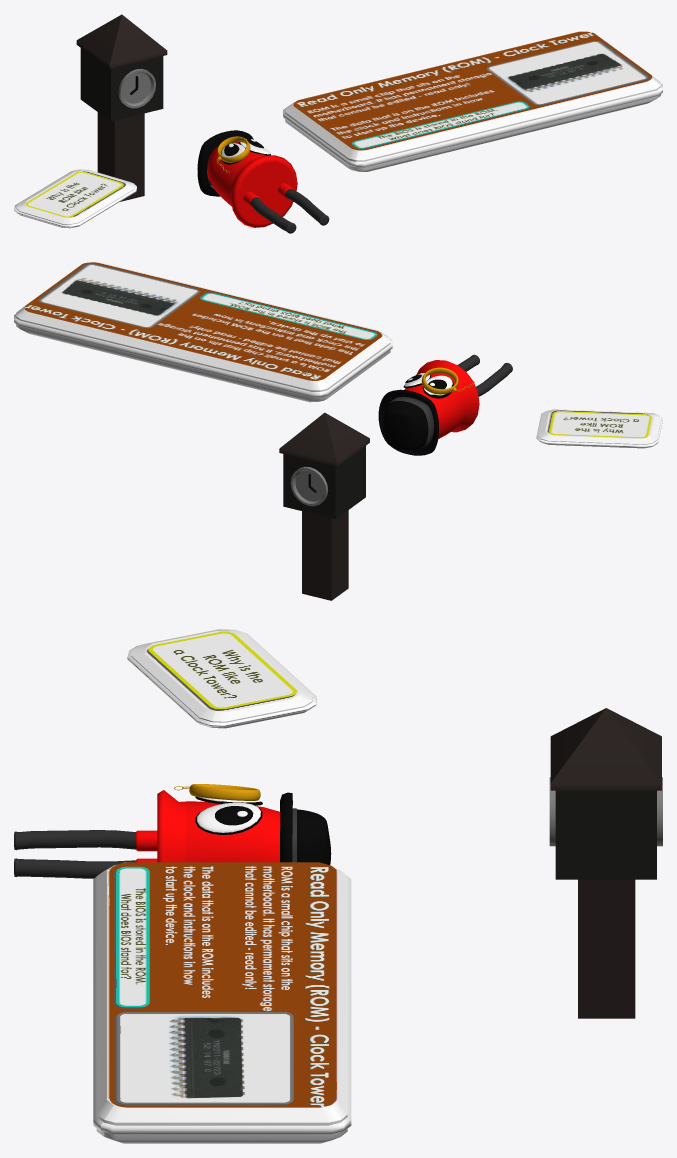
File: combined_rom.obj
3 views of the same model, one above another, from view 1: azimuth 30°, elevation 25°; view 2: azimuth 150°, elevation 25°; view 3: azimuth 270°, elevation 25° (orthographic). The views are drawn at different scales.
Visible parts, largest first — view 1: ROM1, mod_clocktower, char_5, ROM2; view 2: ROM1, mod_clocktower, char_5, ROM2; view 3: ROM1, mod_clocktower, char_5, ROM2.
Part boxes in pixels (left/top/right/bottom): ROM1: left=283, top=31, right=662, bottom=171; mod_clocktower: left=76, top=14, right=167, bottom=201; char_5: left=197, top=130, right=329, bottom=233; ROM2: left=14, top=169, right=136, bottom=228; ROM1: left=14, top=262, right=392, bottom=402; mod_clocktower: left=279, top=412, right=369, bottom=600; char_5: left=378, top=354, right=512, bottom=455; ROM2: left=536, top=409, right=662, bottom=448; ROM1: left=93, top=862, right=351, bottom=1143; mod_clocktower: left=549, top=708, right=662, bottom=1018; char_5: left=14, top=784, right=331, bottom=878; ROM2: left=127, top=629, right=316, bottom=728.
Size of the model in its own units: 15.42 by 4.3 by 8.45.
Materials: 12 (2 with a texture image).
